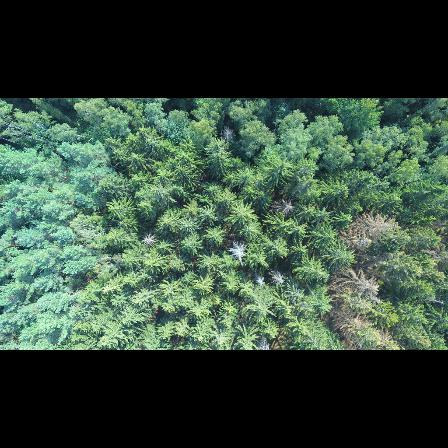Dead: (341, 211, 398, 251), (333, 268, 381, 297), (227, 240, 249, 266), (268, 268, 286, 286), (276, 200, 298, 214), (251, 272, 267, 287), (140, 233, 158, 246)
